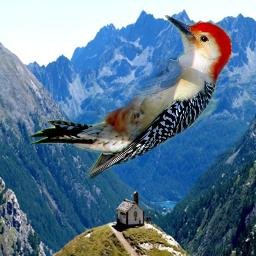Woodpecker: (27, 15, 232, 180)
